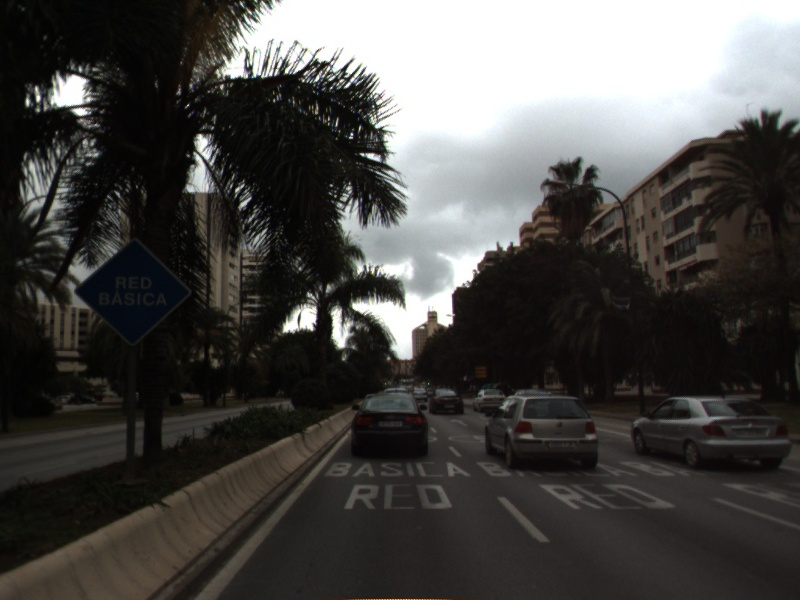STRAIGHT: (448, 416, 471, 429)
